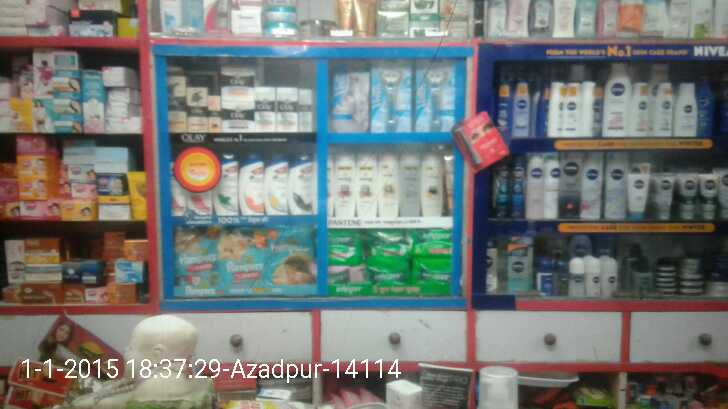venus: (372, 60, 416, 132), (416, 60, 459, 132), (332, 60, 372, 130)
